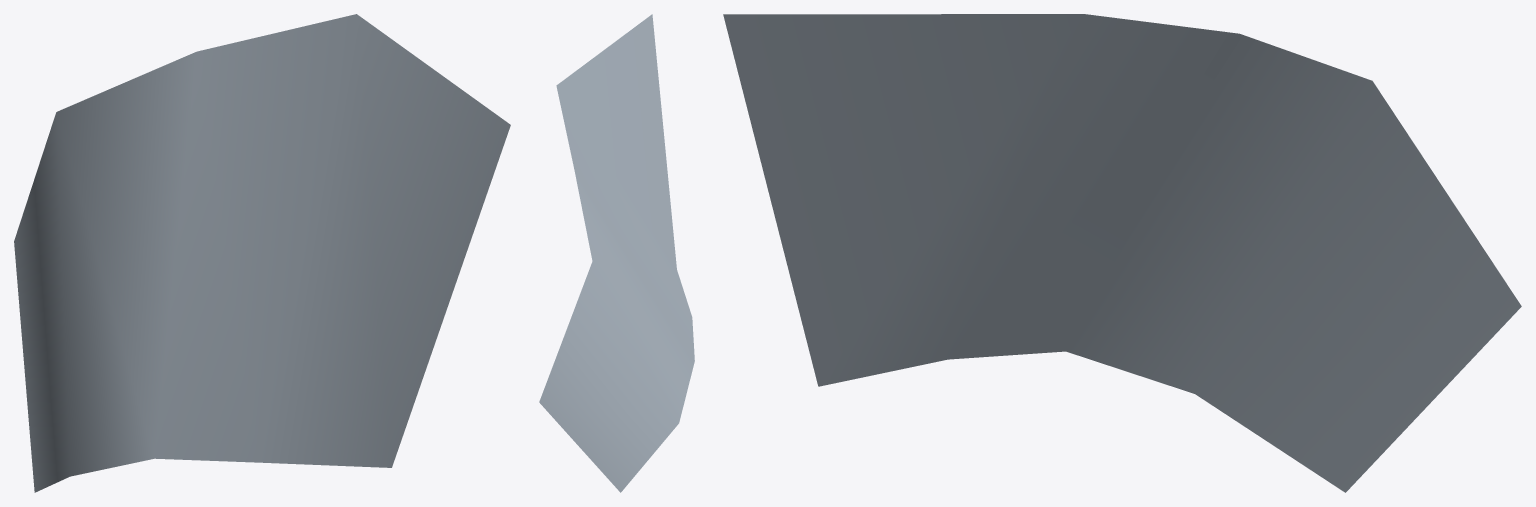
The model's file is anterior-talocalcaneal-ligament-r.glb.
3 renders of one model, left to right at view 1: azimuth 30°, elevation 25°; view 2: azimuth 150°, elevation 25°; view 3: azimuth 270°, elevation 25°, orthographic. The views are drawn at different scales.
Visible parts, largest first — view 1: Anterior talocalcaneal ligament.r; view 2: Anterior talocalcaneal ligament.r; view 3: Anterior talocalcaneal ligament.r.
Boxes of the visible parts, x1=… form: Anterior talocalcaneal ligament.r: x1=14, y1=14, x2=510, y2=492; Anterior talocalcaneal ligament.r: x1=539, y1=14, x2=694, y2=492; Anterior talocalcaneal ligament.r: x1=723, y1=14, x2=1521, y2=492.
Size of the model in its own units: 0.00759 by 0.0153 by 0.0184.
